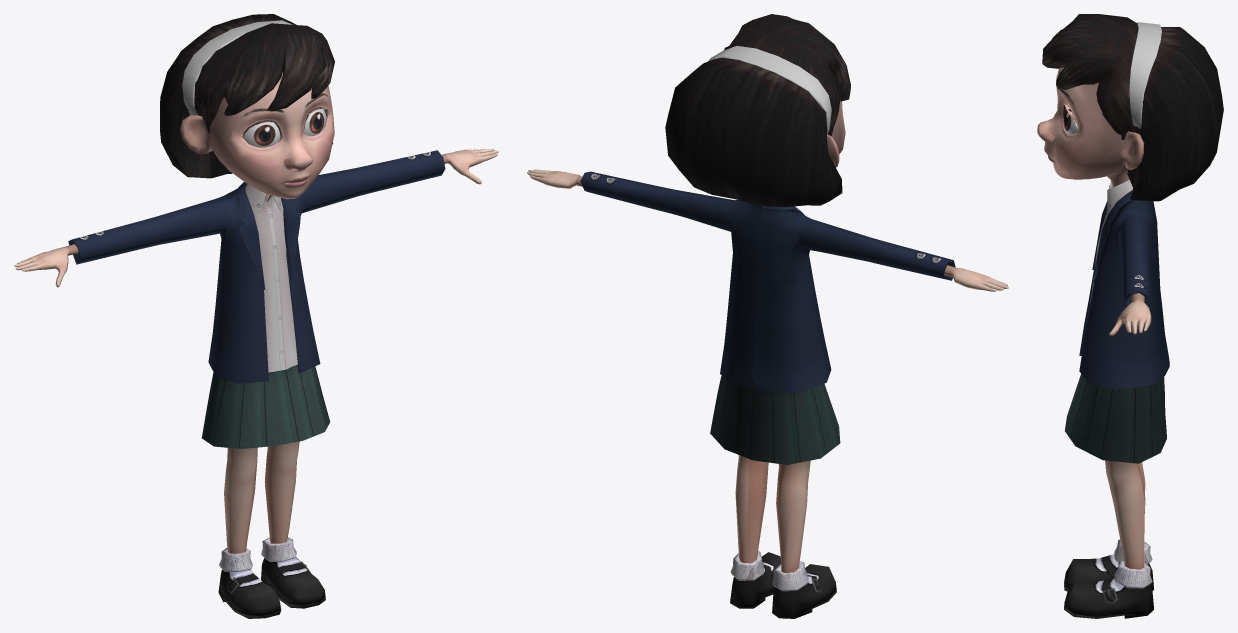
File: the_little_girl.glb
The picture shows the model from 3 angles, left to right: view 1: azimuth 30°, elevation 25°; view 2: azimuth 150°, elevation 25°; view 3: azimuth 270°, elevation 25°; orthographic projection. The views are drawn at different scales.
Parts seen in each view (by area): view 1: Object_2; view 2: Object_2; view 3: Object_2.
Boxes of the visible parts, x1,y1,x2,y2 form: Object_2: (14, 14, 498, 618); Object_2: (527, 14, 1008, 618); Object_2: (1037, 14, 1223, 618).
Size of the model in its own units: 9 by 10.22 by 2.97.
1 material, 1 textured.
